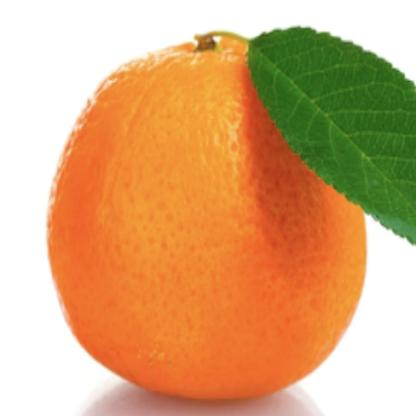fresh: (44, 34, 373, 401)
